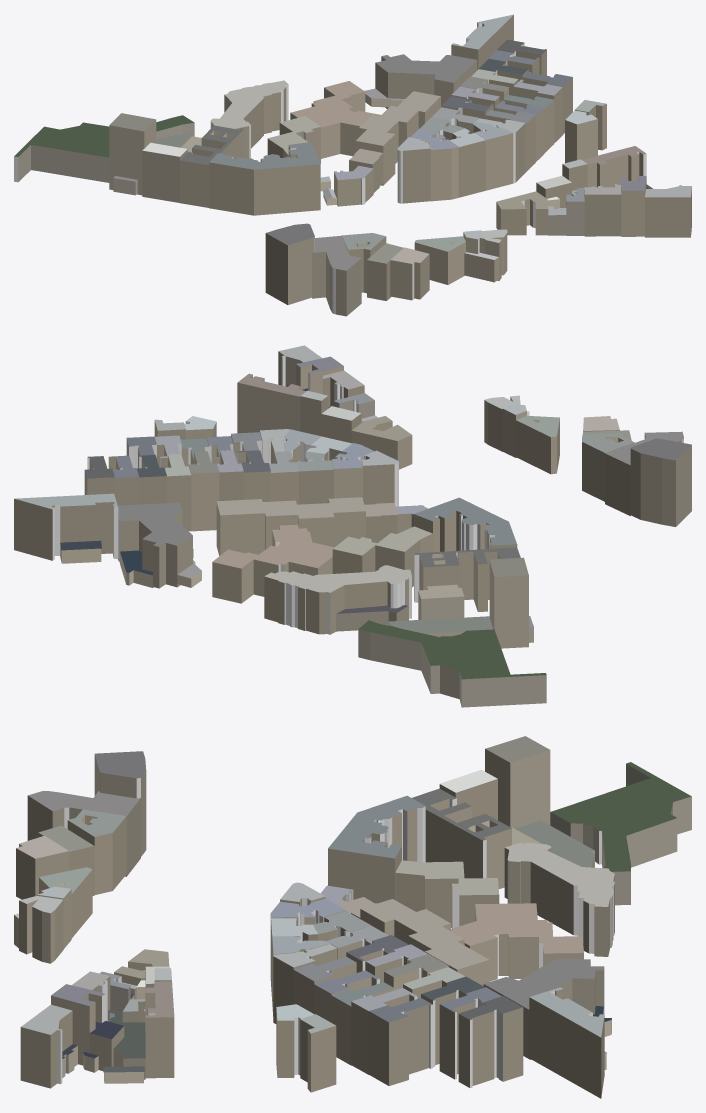
The picture shows the model from 3 angles, top to bottom: view 1: azimuth 30°, elevation 25°; view 2: azimuth 150°, elevation 25°; view 3: azimuth 270°, elevation 25°; orthographic projection. The views are drawn at different scales.
Parts seen in each view (by area): view 1: tuile; view 2: tuile; view 3: tuile.
Part boxes in pixels (<box>): tuile: <box>14,14,691,316</box>; tuile: <box>14,345,691,707</box>; tuile: <box>14,736,691,1098</box>.
Size of the model in its own units: 309 by 43.4 by 279.
